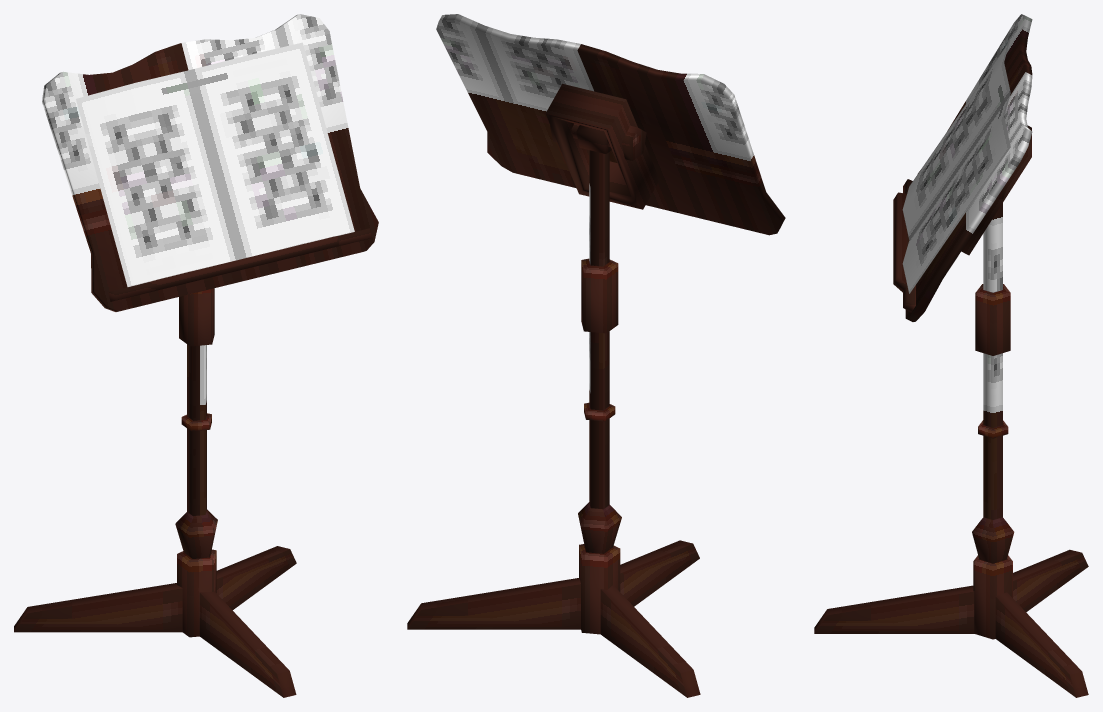
The model's file is int_oth_musicstand.dae.
The picture shows the model from 3 angles, left to right: view 1: azimuth 30°, elevation 25°; view 2: azimuth 150°, elevation 25°; view 3: azimuth 270°, elevation 25°; orthographic projection. The views are drawn at different scales.
Visible parts, largest first — view 1: int_oth_musicstand; view 2: int_oth_musicstand; view 3: int_oth_musicstand.
Part boxes in pixels (x1,y1,x2,y2): int_oth_musicstand: (14, 14, 378, 697); int_oth_musicstand: (407, 14, 785, 697); int_oth_musicstand: (814, 14, 1088, 697).
Size of the model in its own units: 20 by 38.62 by 17.19.
1 material, 1 textured.
